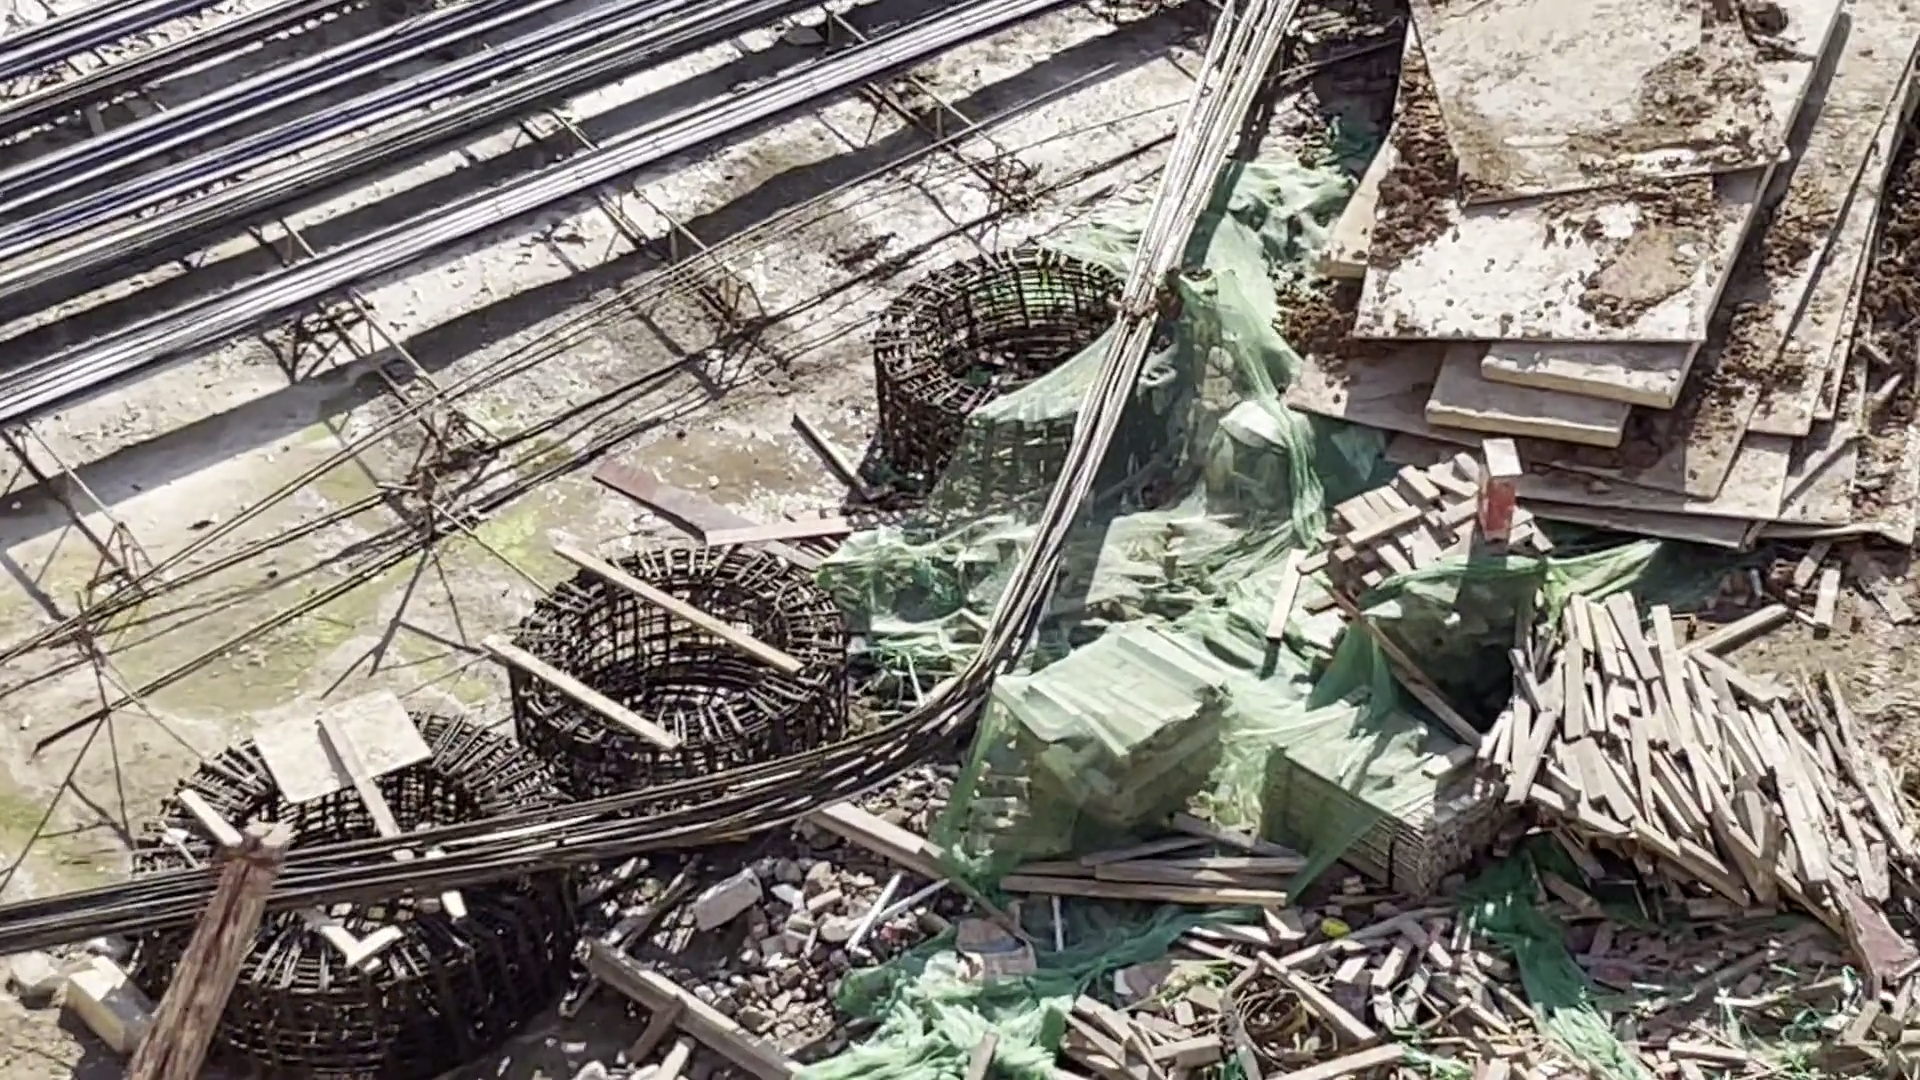board: (1295, 1, 1920, 533)
rebar: (1, 1, 1065, 421), (1, 733, 924, 969), (994, 1, 1309, 626)
wood: (1497, 595, 1904, 942), (997, 616, 1220, 843), (1269, 705, 1510, 889)
